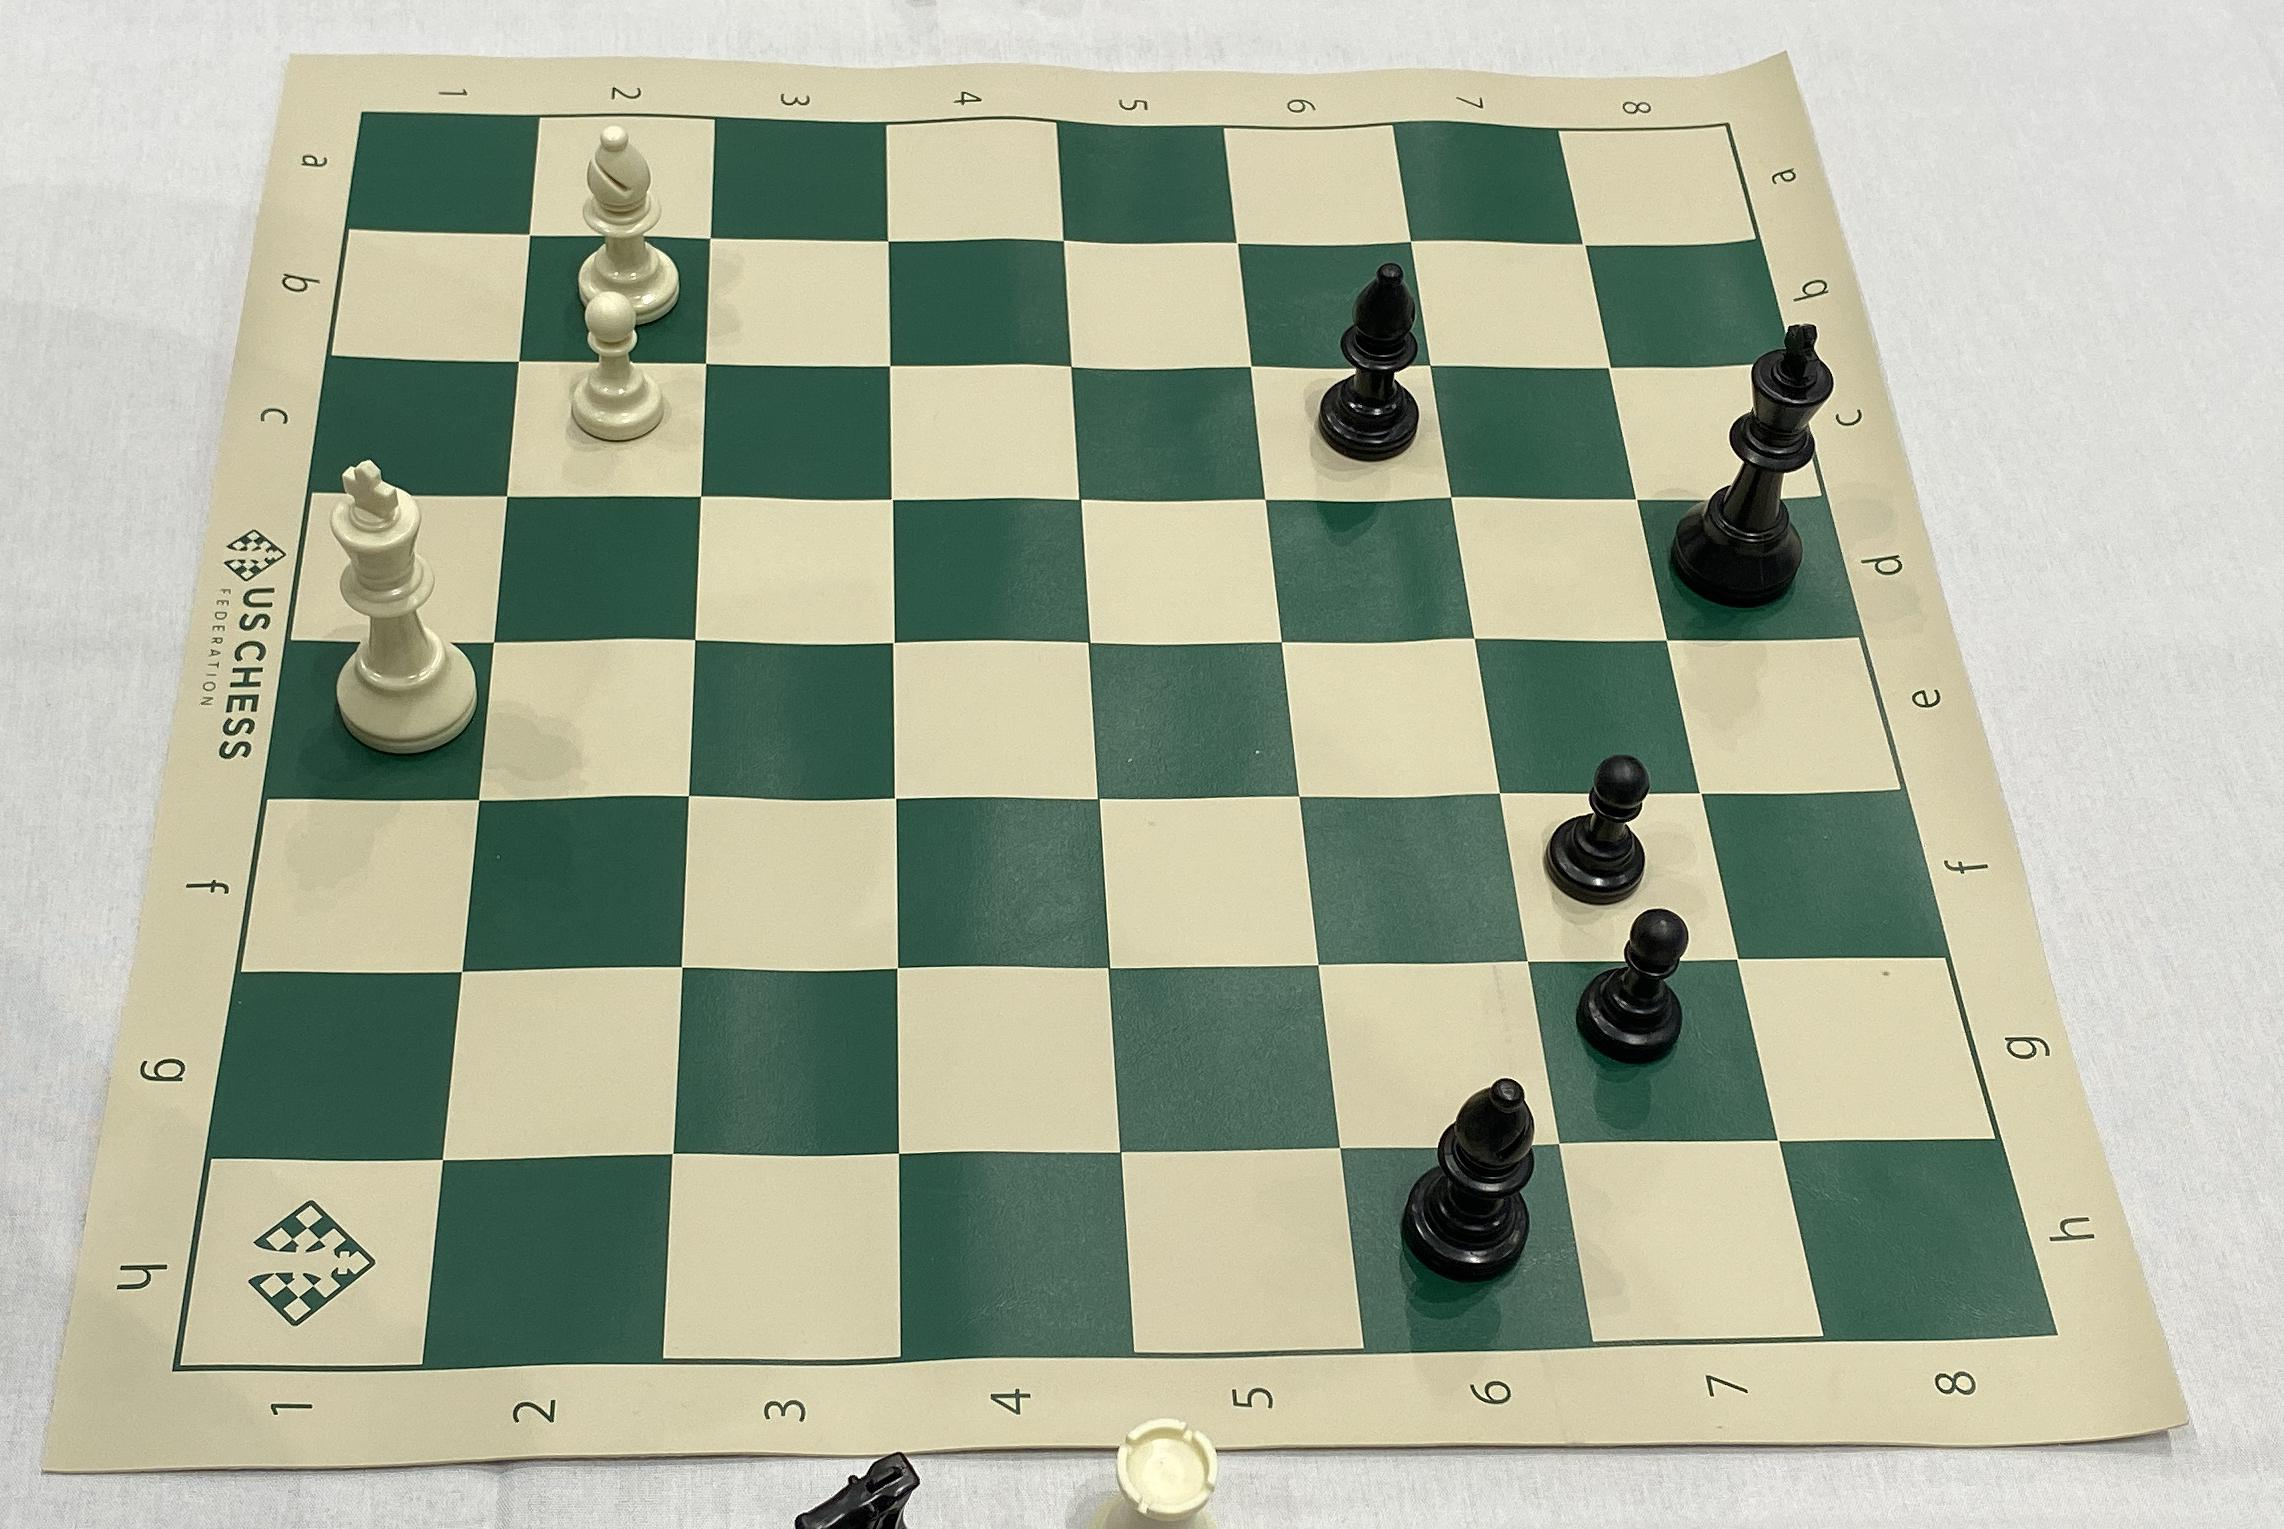black-bishop: (1366, 1056, 1562, 1294), (1301, 234, 1448, 476)
black-king: (1660, 316, 1858, 630)
black-pawn: (1547, 903, 1701, 1073), (1528, 747, 1668, 915)
white-bishop: (561, 109, 699, 334)
white-king: (307, 440, 498, 775)
white-pawn: (546, 290, 693, 451)
